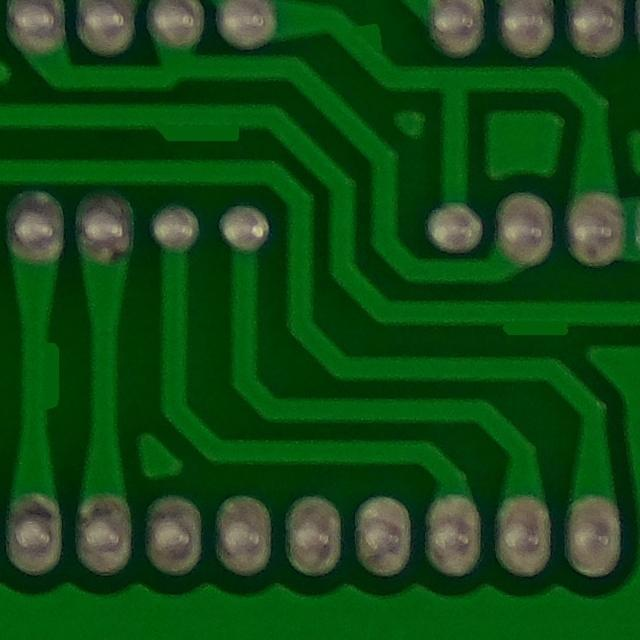spur: (135, 91, 255, 156), (12, 330, 72, 422), (491, 294, 579, 346), (338, 0, 400, 67)
